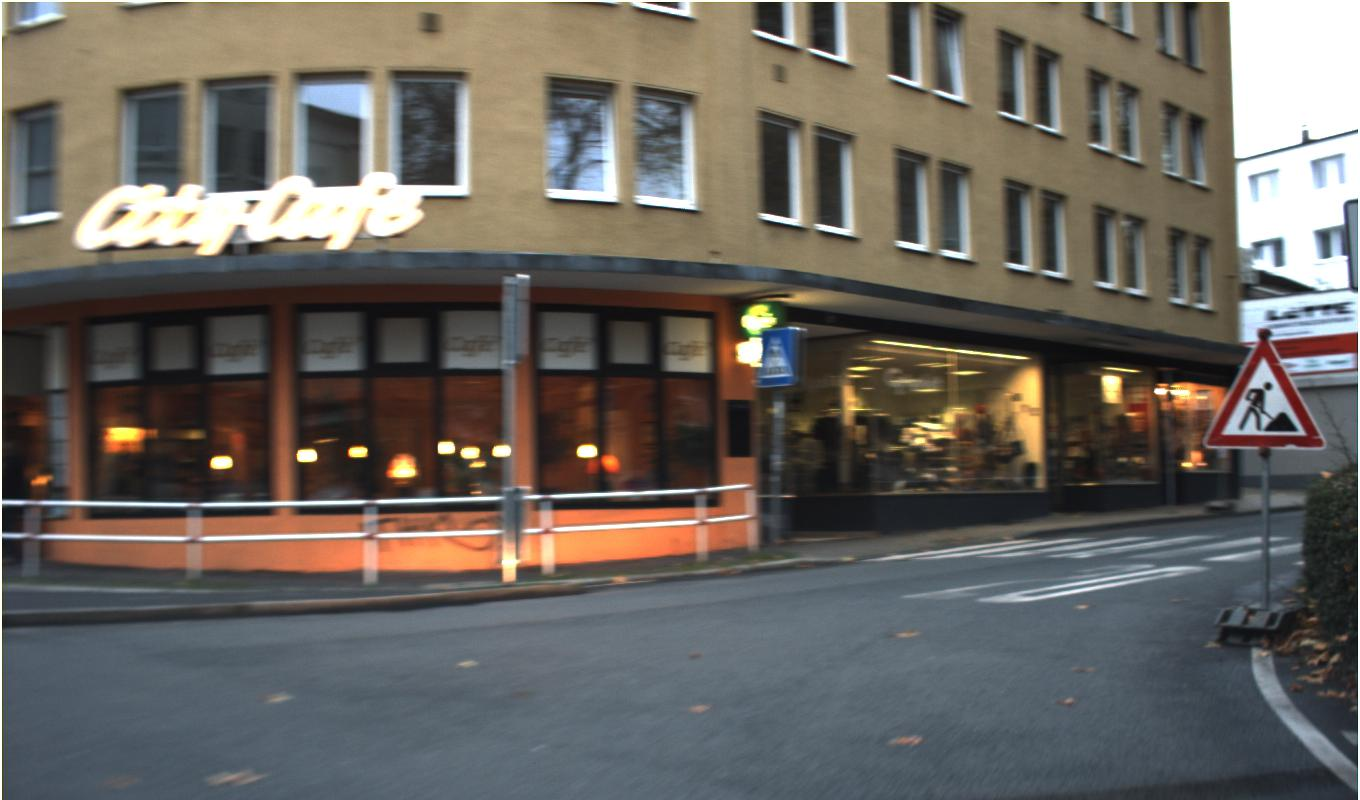danger: (1202, 332, 1326, 449)
